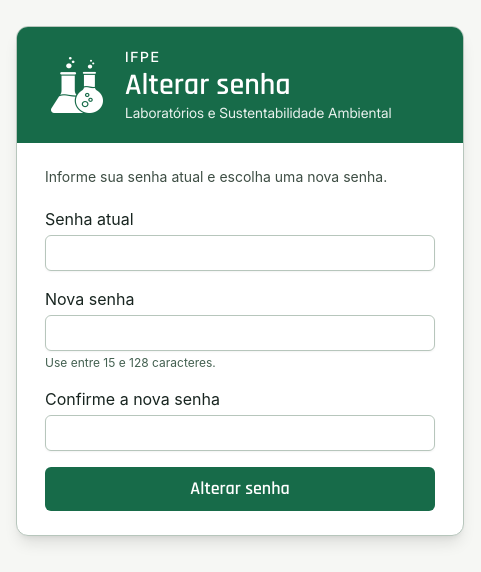
Test case: ChangePassword › traduz senha atual inválida sem encerrar a sessão automaticamente
The image size is (481, 572).
Type "senha-atual-valida" into the password field labelled "Senha atual" at {"x": 240, "y": 253}, box [45,235,435,271]
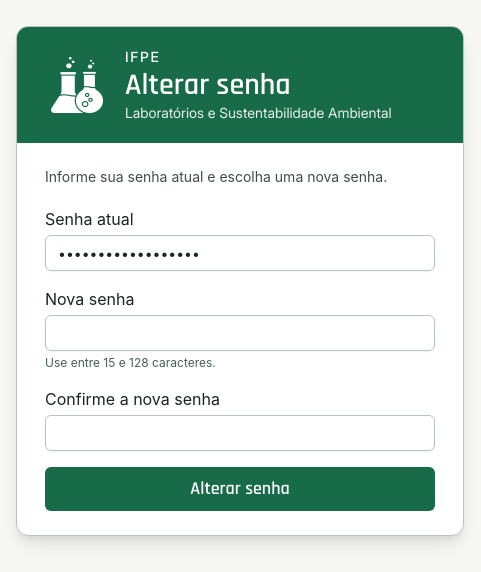
Type "nova-senha-valida" into the password field labelled "Nova senha" at {"x": 240, "y": 333}, box [45,315,435,351]
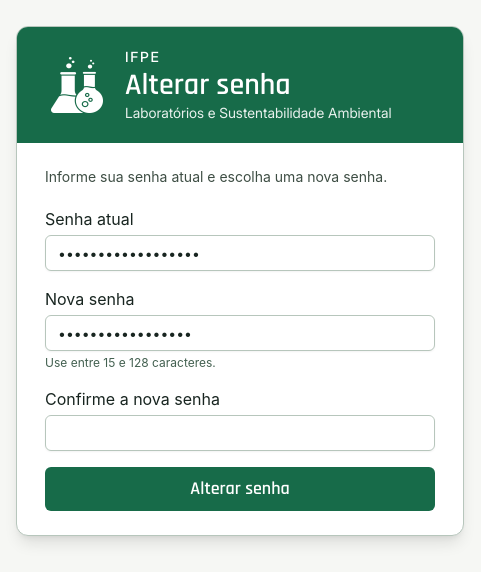
Type "nova-senha-valida" into the password field labelled "Confirme a nova senha" at {"x": 240, "y": 433}, box [45,415,435,451]
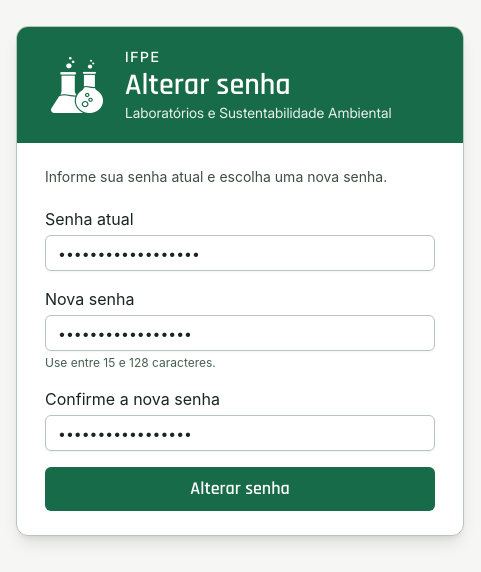
Click the button "Alterar senha" at {"x": 240, "y": 489}, box [45,467,435,511]
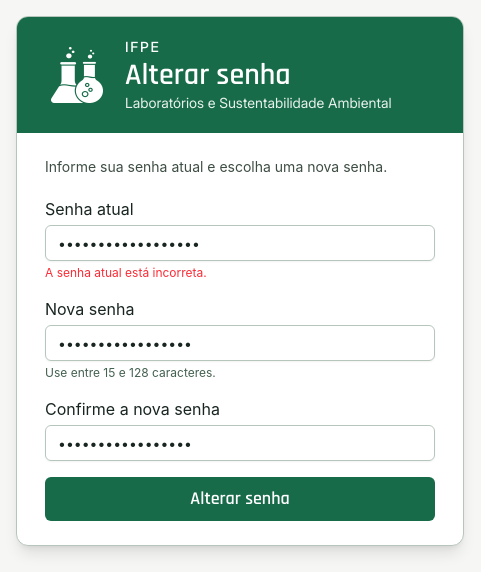
Now the text "A senha atual está incorreta." is shown, box [45,265,207,280]
